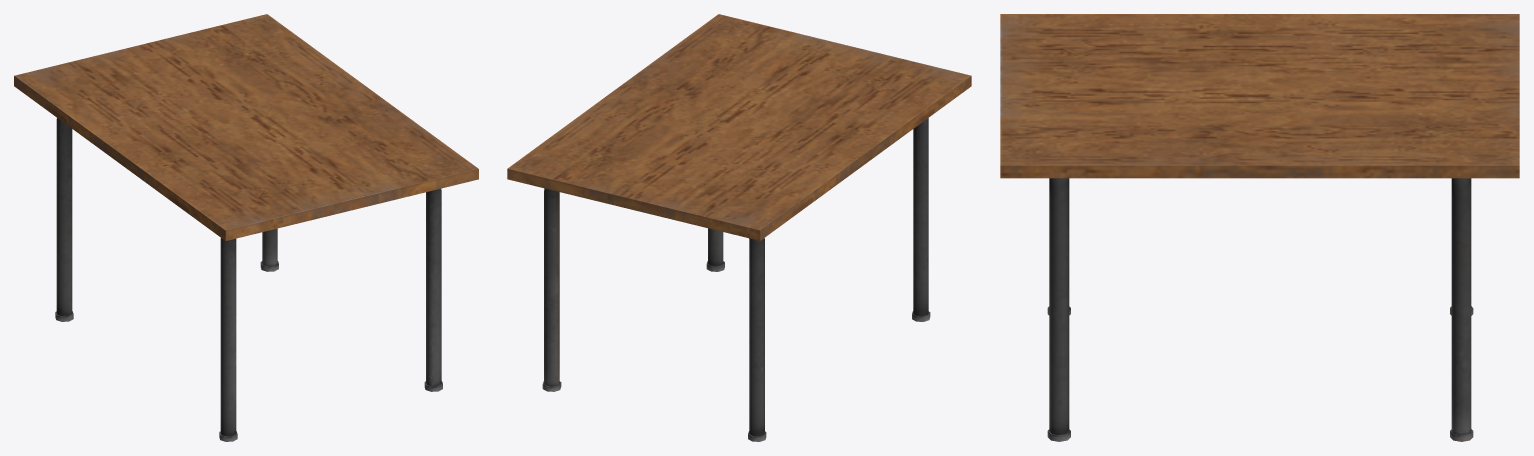
The model's file is table4.fbx.
The picture shows the model from 3 angles, left to right: view 1: azimuth 30°, elevation 25°; view 2: azimuth 150°, elevation 25°; view 3: azimuth 270°, elevation 25°; orthographic projection. The views are drawn at different scales.
Visible parts, largest first — view 1: pCube815.004; view 2: pCube815.004; view 3: pCube815.004.
Part boxes in pixels (x1=…): pCube815.004: x1=14, y1=14, x2=478, y2=441; pCube815.004: x1=507, y1=14, x2=971, y2=441; pCube815.004: x1=1000, y1=14, x2=1519, y2=441.
Bounding box in the file's own units: 1.26 × 1.1 × 1.82.
Materials: 1 (1 with a texture image).
